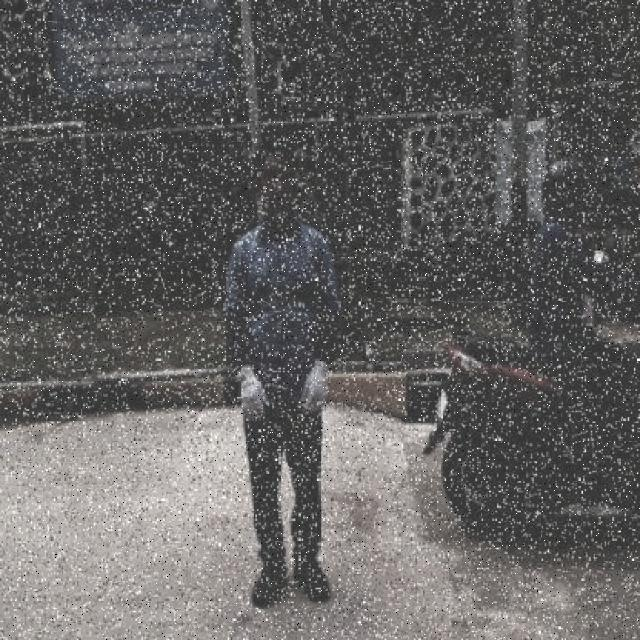Boots: (248, 552, 290, 612), (290, 552, 336, 606)
Gloves: (231, 362, 274, 426), (296, 353, 332, 421)
